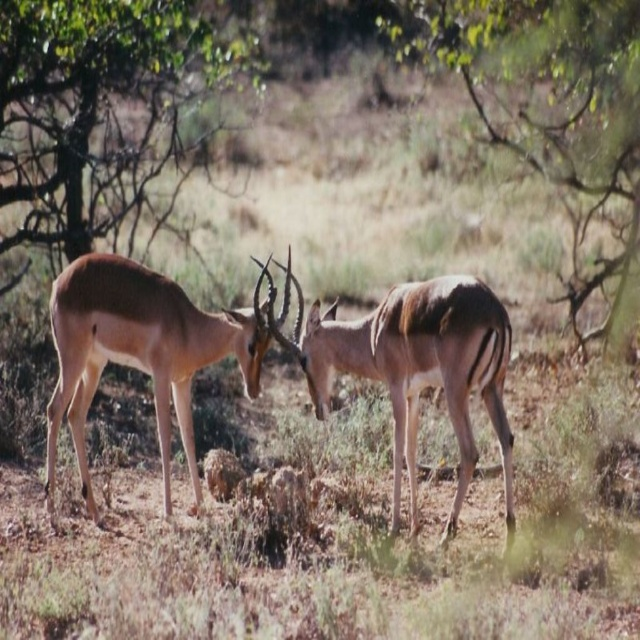Deer: (249, 255, 517, 556), (44, 243, 292, 537)
